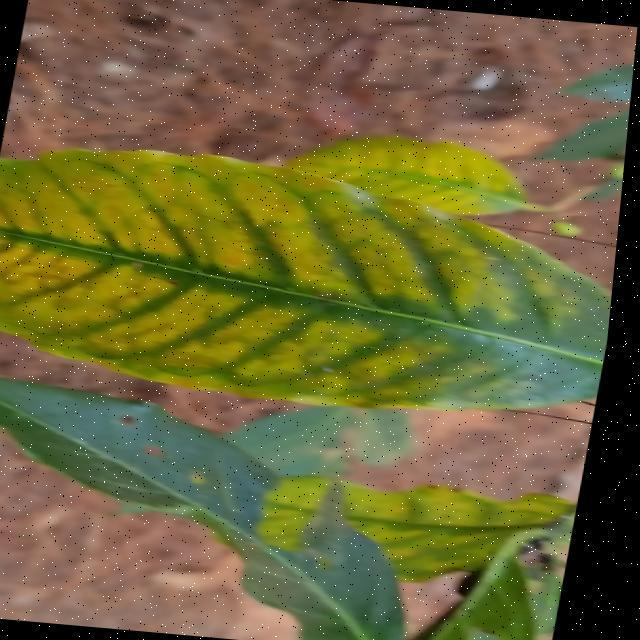leaves: (0, 124, 622, 448)
